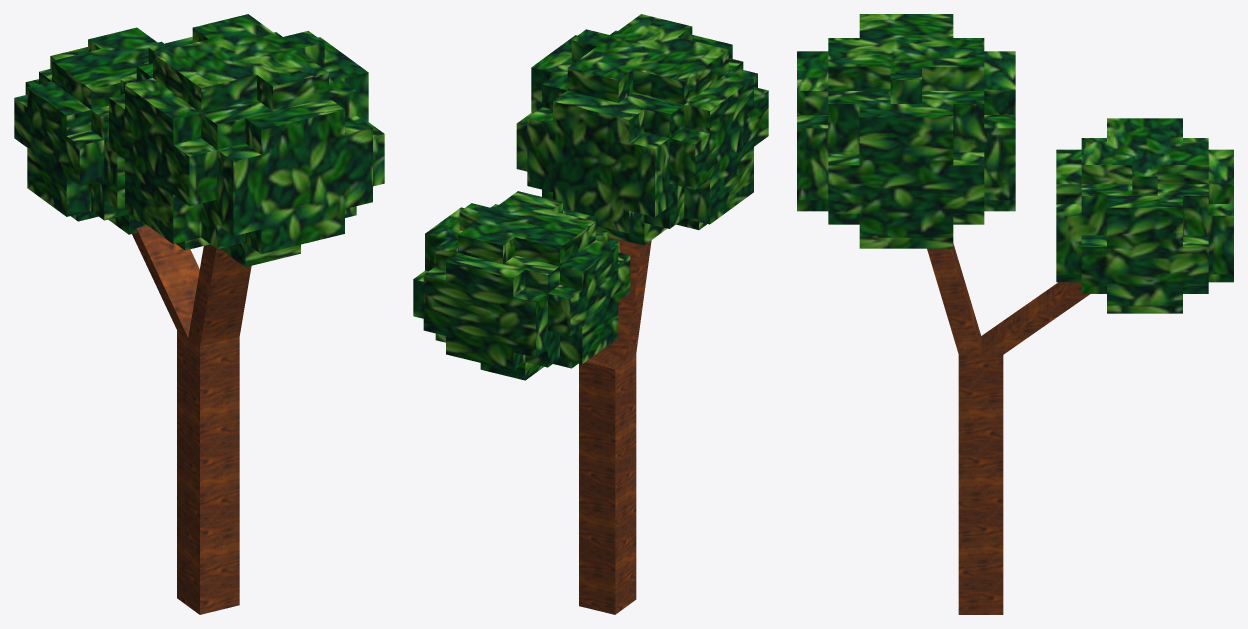
File: arbol2.obj
3 renders of one model, left to right at view 1: azimuth 30°, elevation 25°; view 2: azimuth 150°, elevation 25°; view 3: azimuth 270°, elevation 25°, orthographic. The views are drawn at different scales.
Parts seen in each view (by area): view 1: Icosphere.001; view 2: Icosphere.001; view 3: Icosphere.001.
Boxes of the visible parts, x1,y1,x2,y2 form: Icosphere.001: (14, 14, 384, 614); Icosphere.001: (413, 14, 768, 614); Icosphere.001: (797, 14, 1233, 614).
Size of the model in its own units: 8.02 by 22.61 by 16.02.
